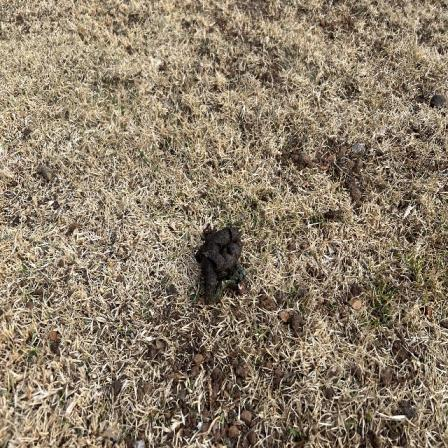dog-poop: (200, 221, 247, 298)
